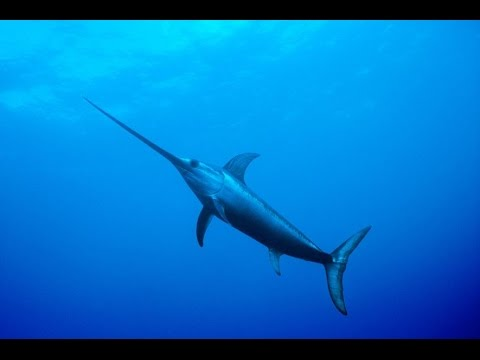swordfish: (76, 84, 383, 327)
